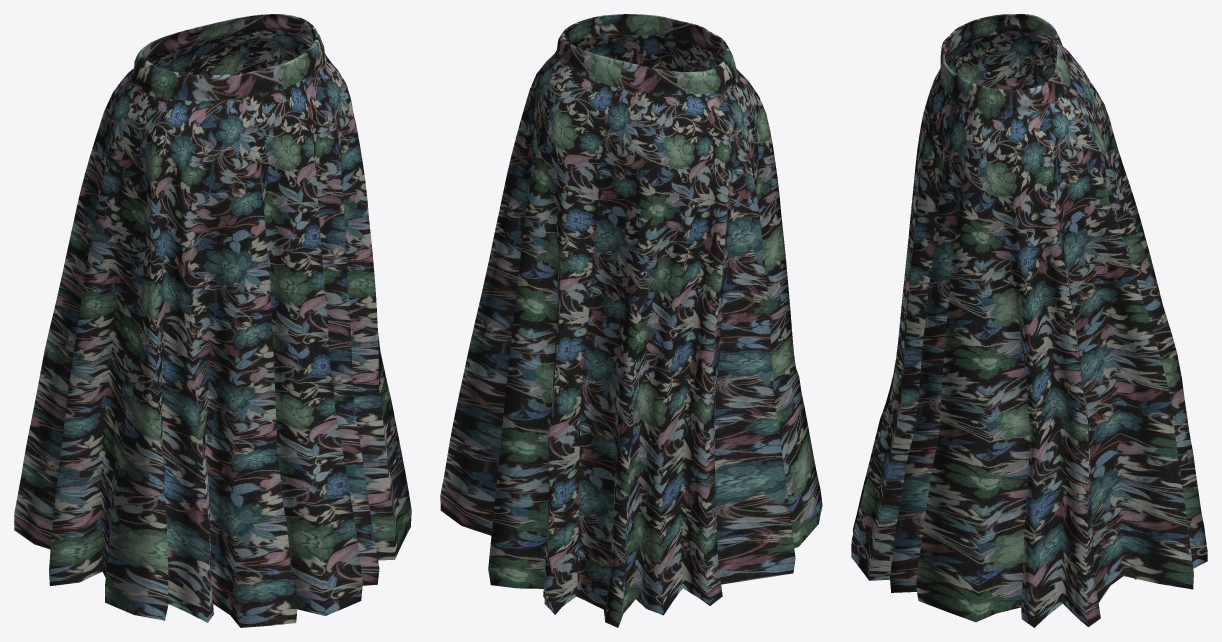
File: bottom_long_skirt.gltf
3 views of the same model, side by side, from view 1: azimuth 30°, elevation 25°; view 2: azimuth 150°, elevation 25°; view 3: azimuth 270°, elevation 25° (orthographic). The views are drawn at different scales.
Visible parts, largest first — view 1: bottom_long_skirt; view 2: bottom_long_skirt; view 3: bottom_long_skirt.
Part boxes in pixels (x1,y1,x2,y2): bottom_long_skirt: [14, 14, 411, 627]; bottom_long_skirt: [440, 14, 822, 627]; bottom_long_skirt: [851, 14, 1207, 627].
Bounding box in the file's own units: 0.5837 × 0.8644 × 0.5343.
Materials: 1 (1 with a texture image).
